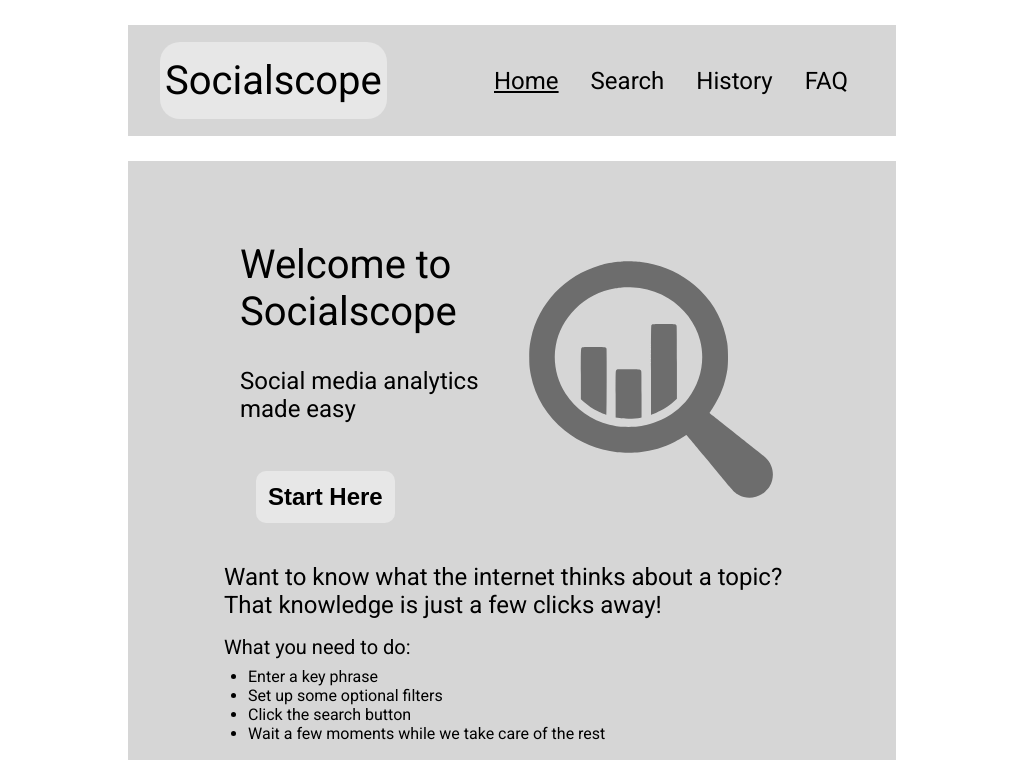
Socialscope cypress tech demo › has working navigations
The width and height of the screenshot is (1024, 760).
Click the button "Start Here": click(326, 497) left=256, top=471, right=395, bottom=523
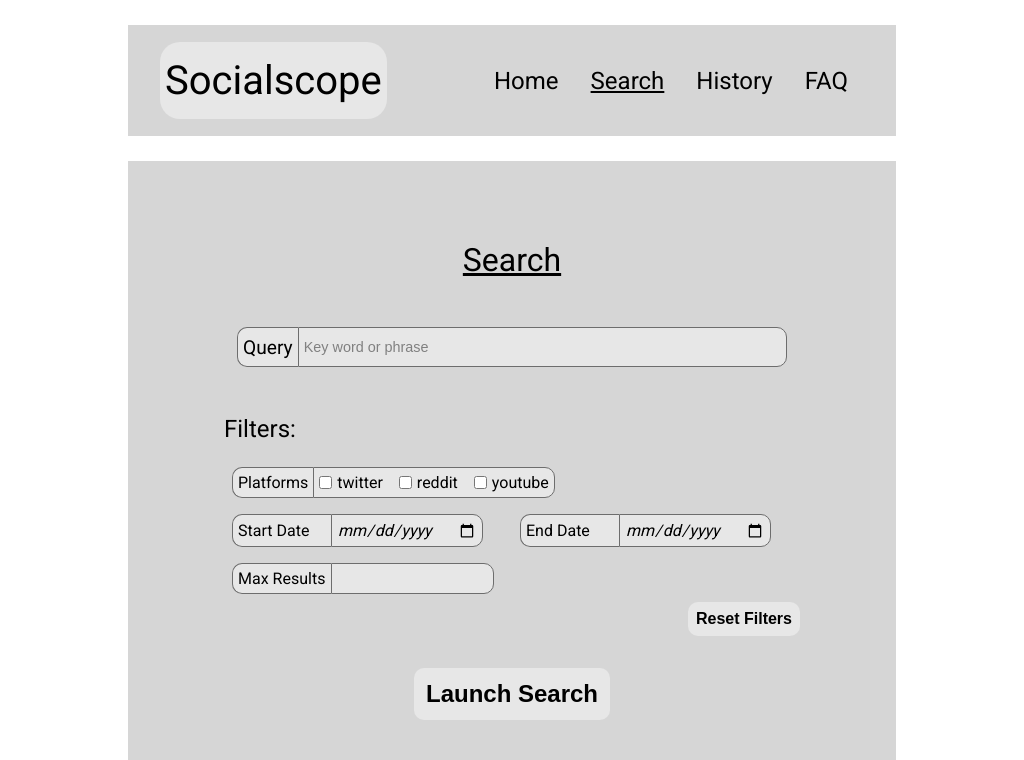
Expected: the heading "Search" is shown, left=463, top=241, right=561, bottom=279
Click the link "Home": click(527, 81) left=494, top=67, right=559, bottom=95
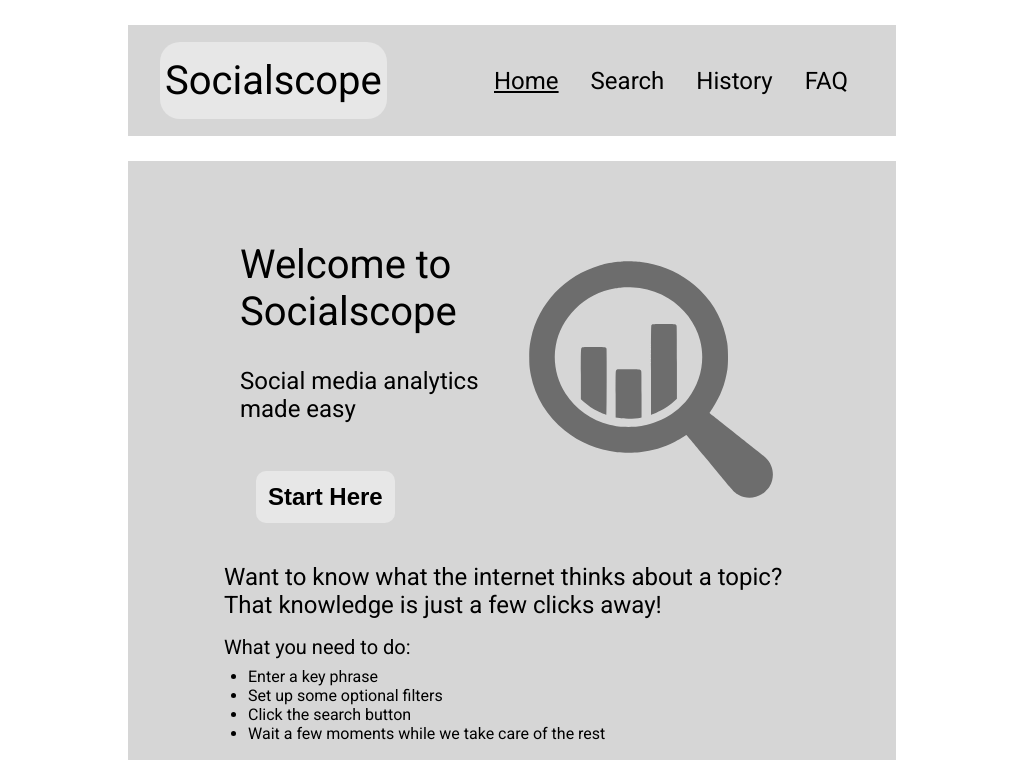
Result: the heading "Welcome to Socialscope" is shown at left=240, top=241, right=486, bottom=335
Click the link "Search": click(628, 81) left=591, top=67, right=665, bottom=95
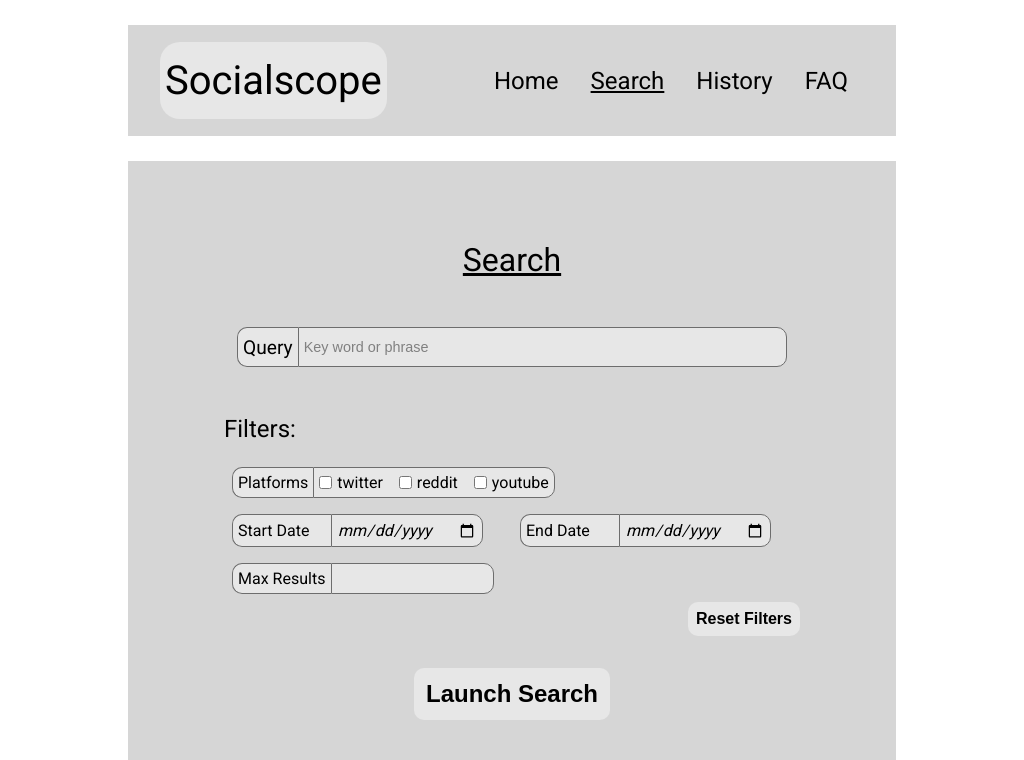
Expected: the heading "Search" is shown, left=463, top=241, right=561, bottom=279
Click the link "History": click(734, 81) left=696, top=67, right=772, bottom=95
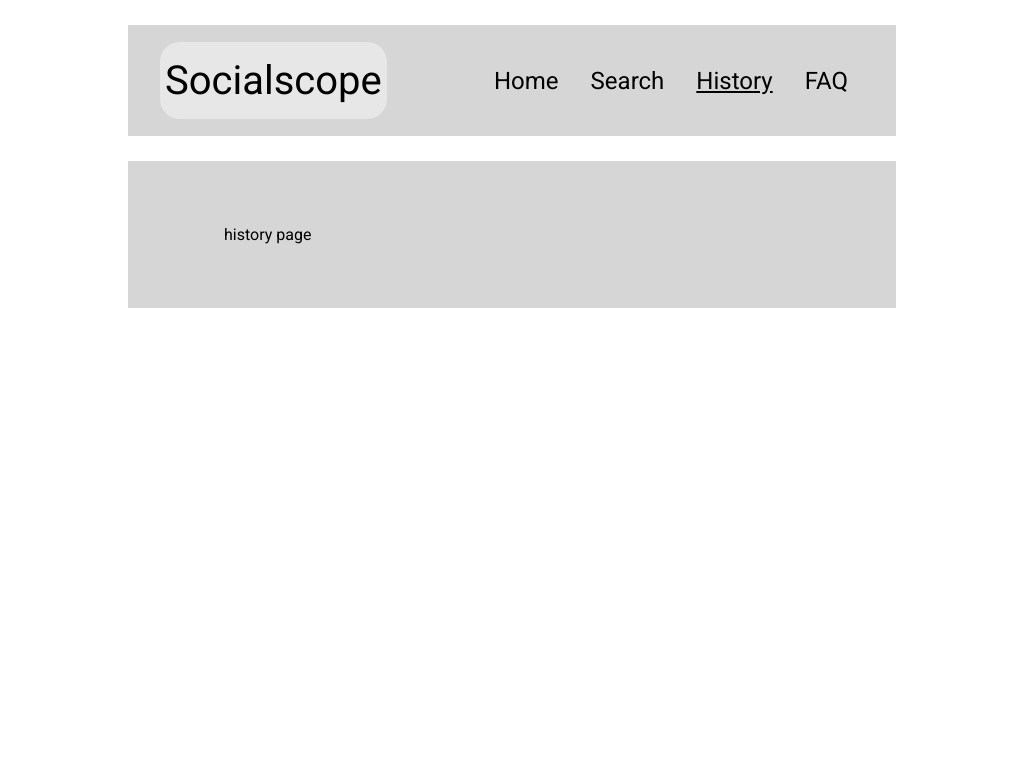
Click the link "FAQ": click(827, 81) left=805, top=67, right=848, bottom=95
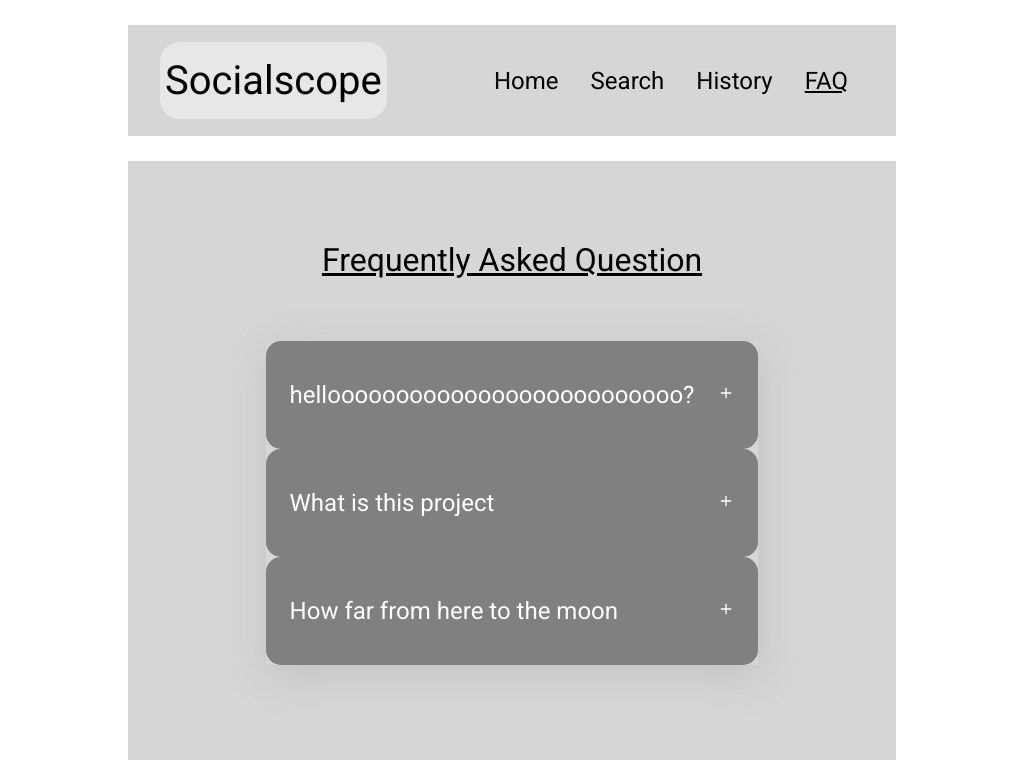
Click the link "Home": click(527, 81) left=494, top=67, right=559, bottom=95
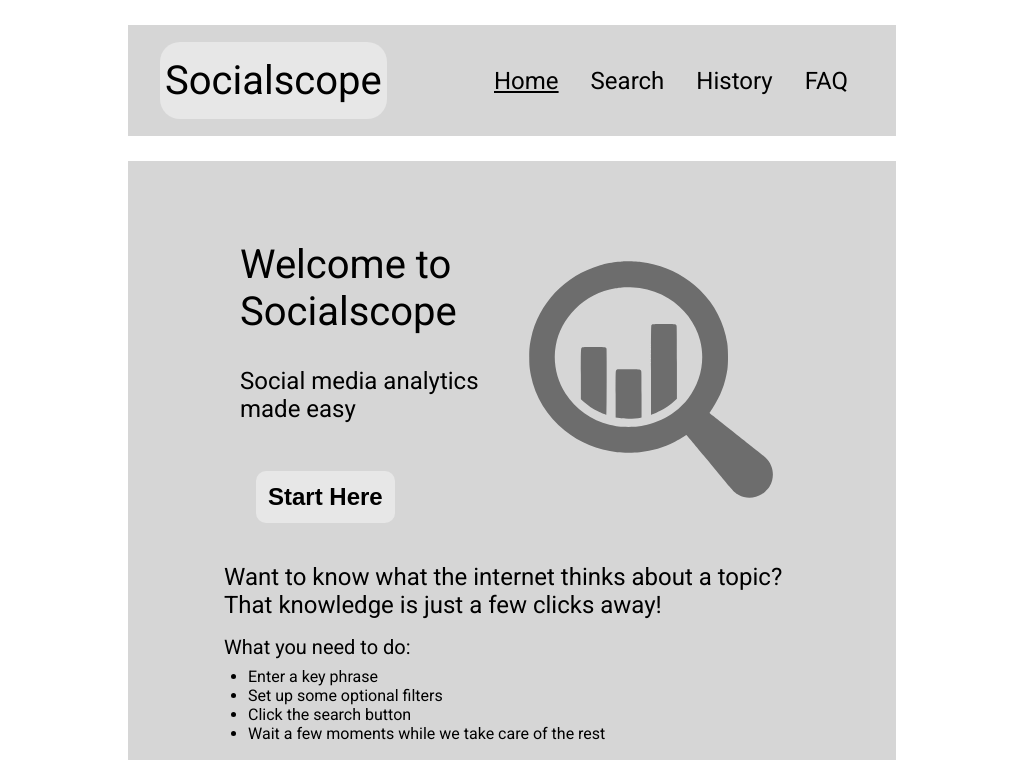
Result: the heading "Welcome to Socialscope" is shown at left=240, top=241, right=486, bottom=335
